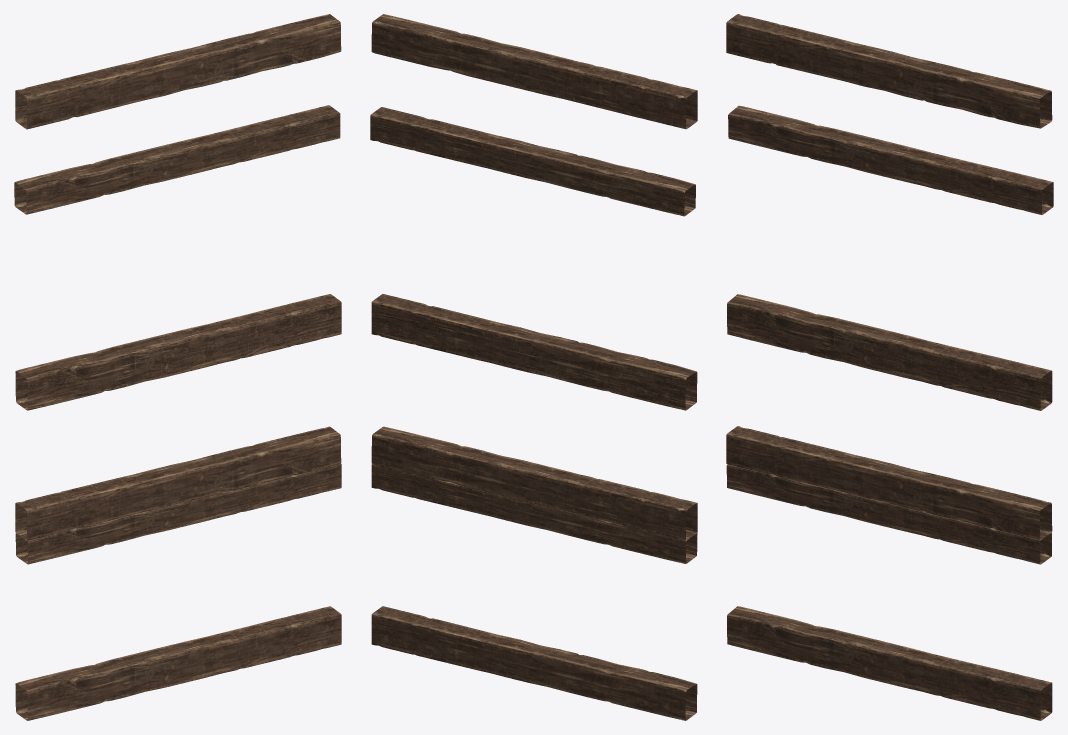
The model's file is SM_BackWall_07.fbx.
The picture shows the model from 3 angles, left to right: view 1: azimuth 30°, elevation 25°; view 2: azimuth 150°, elevation 25°; view 3: azimuth 330°, elevation 25°; orthographic projection.
Parts seen in each view (by area): view 1: SM_BackWall_07_LOD0; view 2: SM_BackWall_07_LOD0; view 3: SM_BackWall_07_LOD0.
Boxes of the visible parts, left/top/right/bottom form: SM_BackWall_07_LOD0: left=14, top=14, right=341, bottom=720; SM_BackWall_07_LOD0: left=370, top=14, right=697, bottom=720; SM_BackWall_07_LOD0: left=726, top=14, right=1053, bottom=720.
Size of the model in its own units: 461 by 33.19 by 873.
